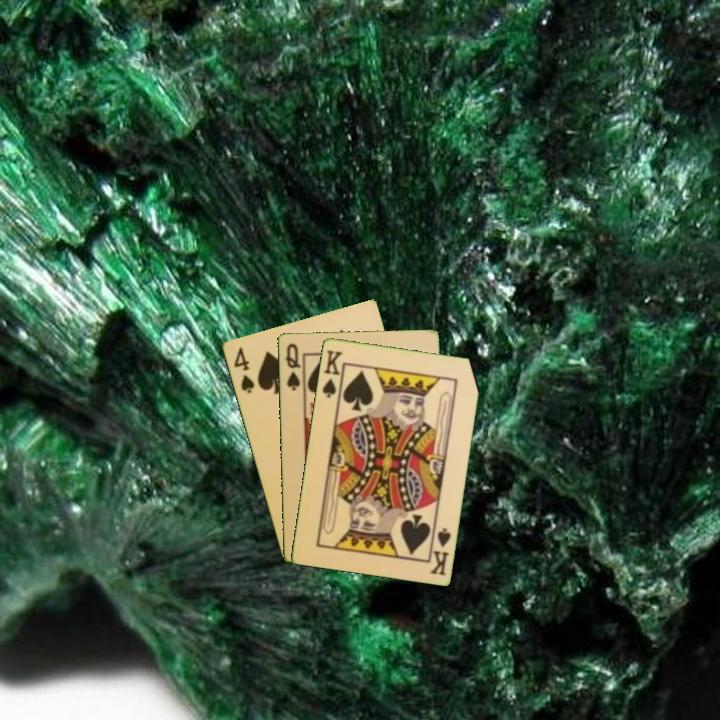4s: (230, 343, 257, 396)
Ks: (318, 346, 346, 401), (426, 521, 453, 578)
Qs: (282, 340, 303, 393)
